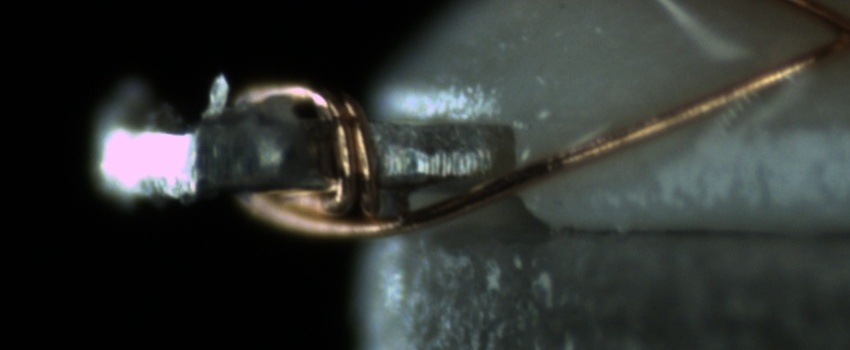CL: (809, 12, 849, 60)
TE: (241, 69, 383, 215)
